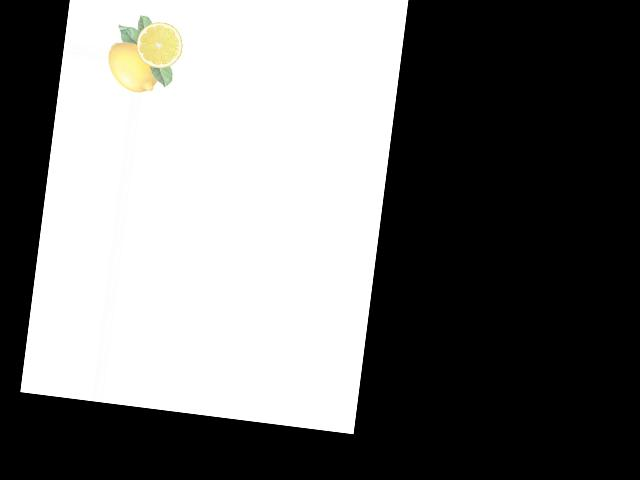lemon: (104, 37, 163, 93)
